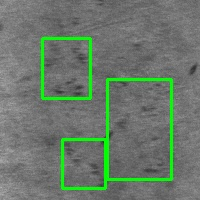rolled-in_scale: (107, 79, 171, 179), (42, 38, 90, 98), (62, 139, 105, 188)
